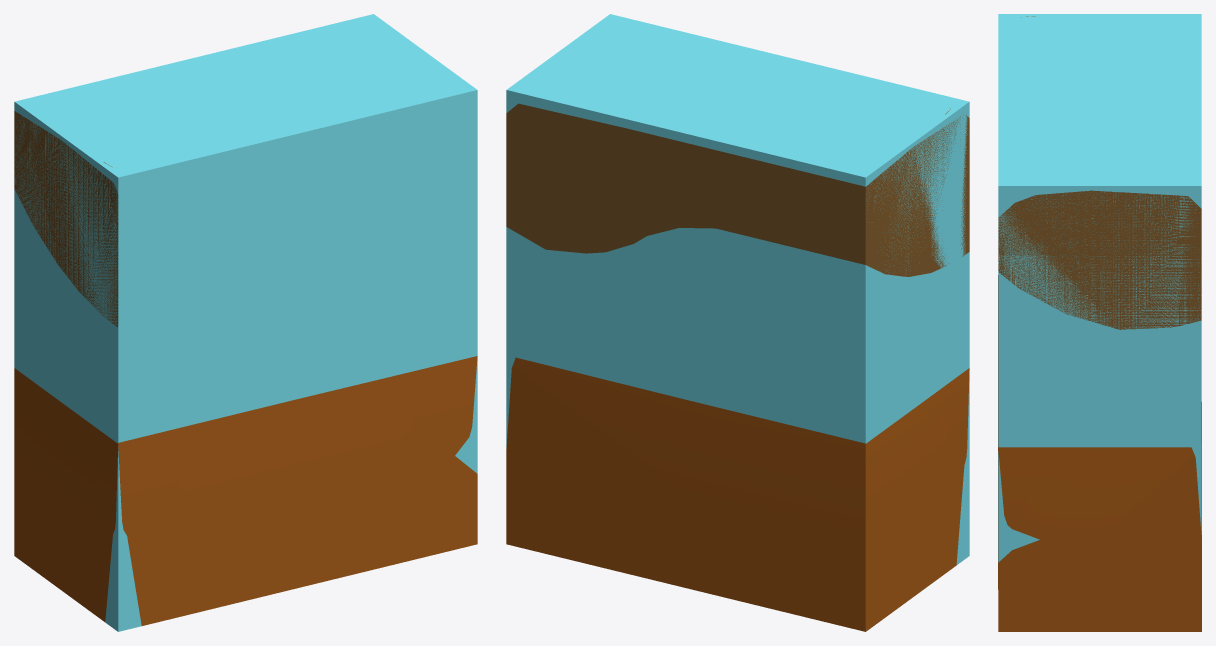
The model's file is PBOX2_Mud_01.FBX.
3 renders of one model, left to right at view 1: azimuth 30°, elevation 25°; view 2: azimuth 150°, elevation 25°; view 3: azimuth 270°, elevation 25°, orthographic.
Parts seen in each view (by area): view 1: PBOX2_Mud_01, PBOX1_SUB_TAB_MUD_01, PBOX2_SUB_Mud_01; view 2: PBOX2_Mud_01, PBOX1_SUB_TAB_MUD_01, PBOX2_SUB_Mud_01; view 3: PBOX2_Mud_01, PBOX1_SUB_TAB_MUD_01, PBOX2_SUB_Mud_01.
Boxes of the visible parts, box(x1,y1,x2,y2) form: PBOX2_Mud_01: box(14, 14, 477, 631); PBOX1_SUB_TAB_MUD_01: box(14, 356, 477, 625); PBOX2_SUB_Mud_01: box(14, 111, 118, 327); PBOX2_Mud_01: box(506, 14, 969, 564); PBOX1_SUB_TAB_MUD_01: box(506, 357, 969, 631); PBOX2_SUB_Mud_01: box(506, 103, 969, 276); PBOX2_Mud_01: box(998, 14, 1201, 562); PBOX1_SUB_TAB_MUD_01: box(998, 275, 1201, 631); PBOX2_SUB_Mud_01: box(998, 16, 1201, 329).
Size of the model in its own units: 12 by 14.5 by 6.
